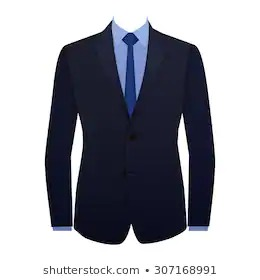F_M_suit jacket: (39, 15, 222, 247)
F_tie: (122, 32, 140, 114)
